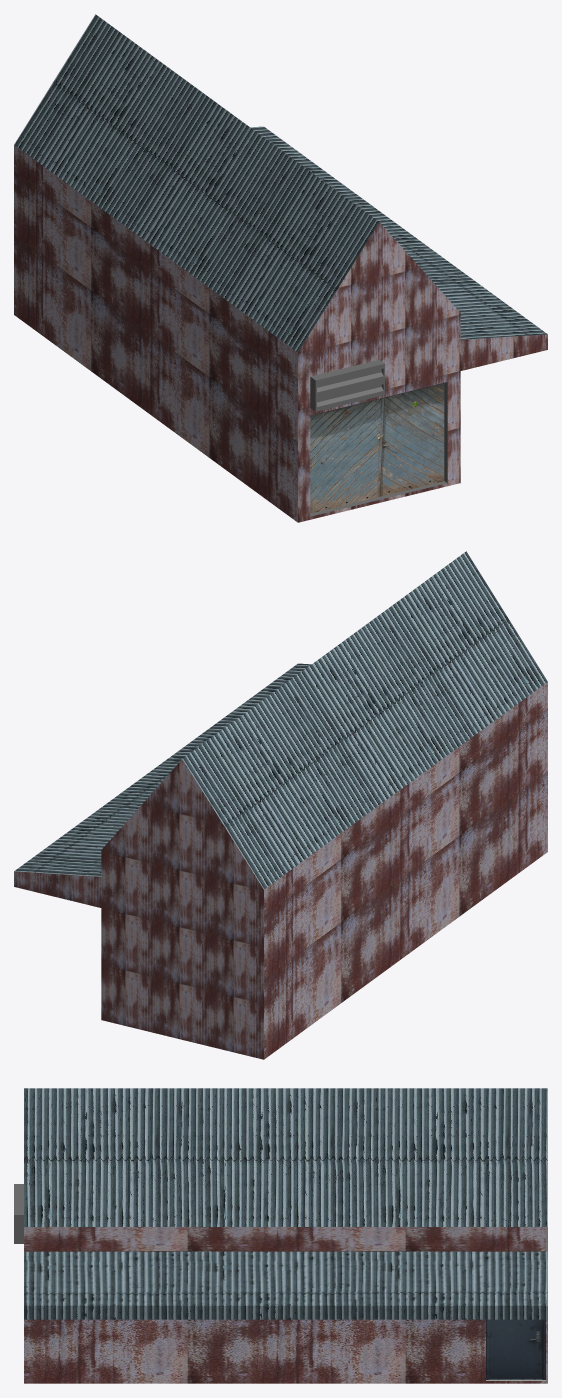
Rendered from StorageV0.2.fbx.
3 renders of one model, top to bottom at view 1: azimuth 30°, elevation 25°; view 2: azimuth 150°, elevation 25°; view 3: azimuth 270°, elevation 25°, orthographic. The views are drawn at different scales.
Parts seen in each view (by area): view 1: polySurface2; view 2: polySurface2; view 3: polySurface2.
Boxes of the visible parts, box(x1,y1,x2,y2) form: polySurface2: box(14, 14, 547, 522); polySurface2: box(14, 551, 547, 1059); polySurface2: box(14, 1088, 547, 1383).
Bounding box in the file's own units: 21.95 × 23.56 × 44.04.
Materials: 6 (4 with a texture image).
